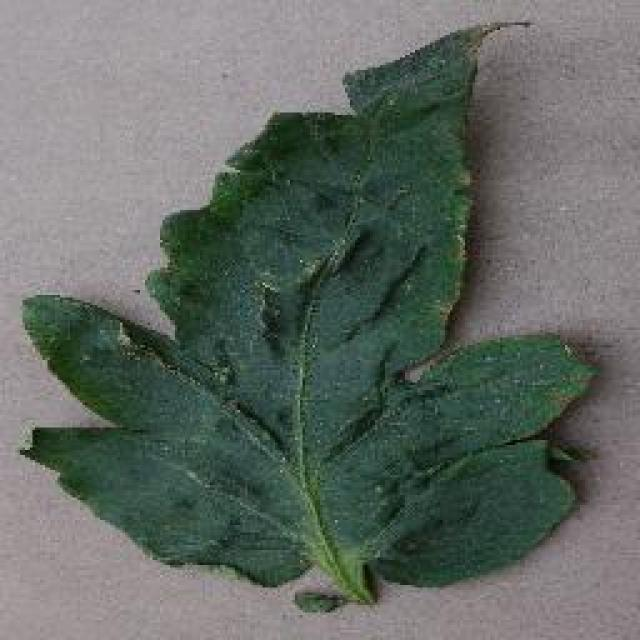Tomato bacterial spot leaf: (25, 20, 595, 612)
